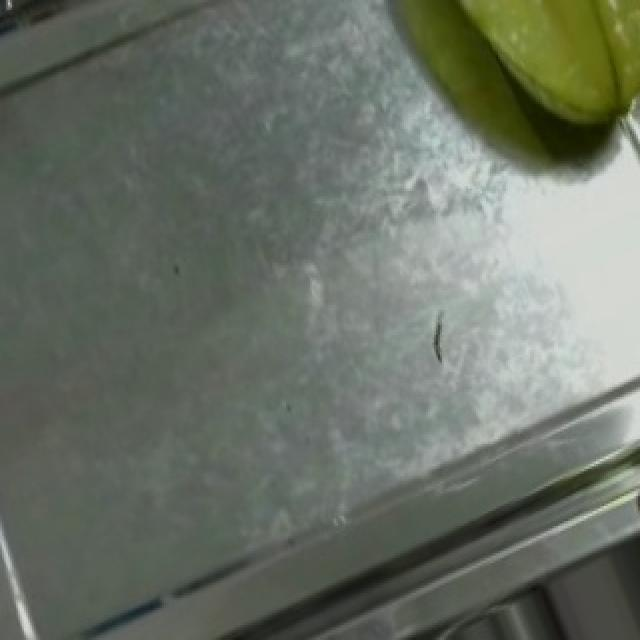fruit: (386, 0, 640, 176)
